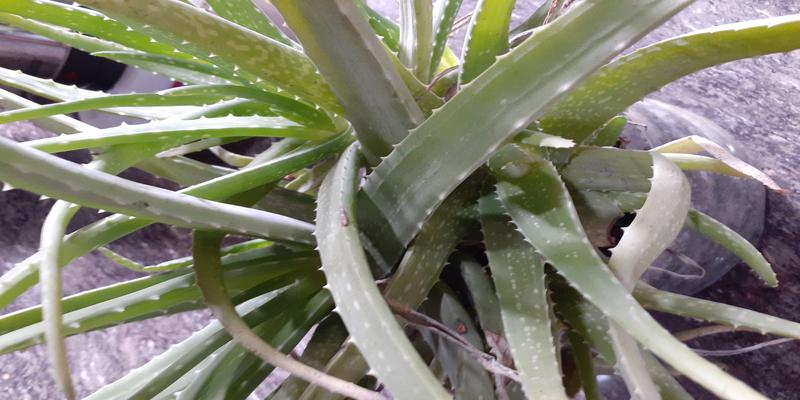Aloevera: (71, 26, 666, 351)
